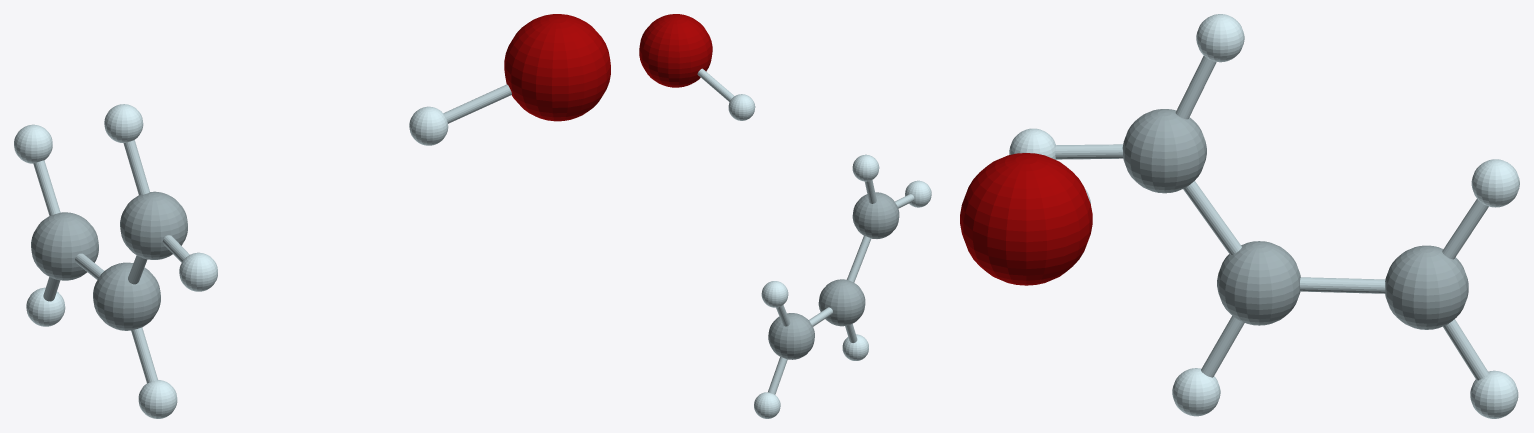
Rendered from irc_step_047.glb.
The picture shows the model from 3 angles, left to right: view 1: azimuth 30°, elevation 25°; view 2: azimuth 150°, elevation 25°; view 3: azimuth 270°, elevation 25°; orthographic projection. The views are drawn at different scales.
Visible parts, largest first — view 1: Renderer Node; view 2: Renderer Node; view 3: Renderer Node.
Part boxes in pixels (x1=…): Renderer Node: x1=14, y1=14, x2=610, y2=418; Renderer Node: x1=639, y1=14, x2=931, y2=418; Renderer Node: x1=960, y1=14, x2=1519, y2=418.
Size of the model in its own units: 5 by 4.15 by 4.63.
